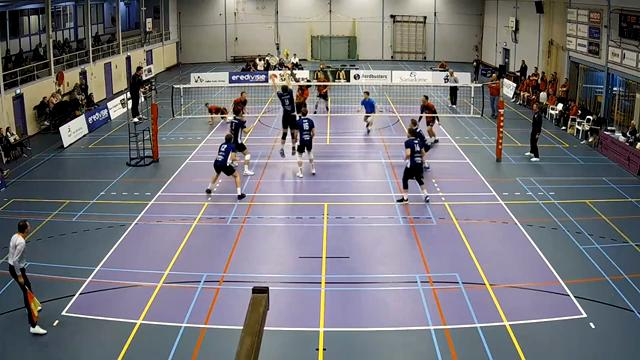attacco: (290, 65, 313, 113)
muro: (270, 68, 302, 157)
